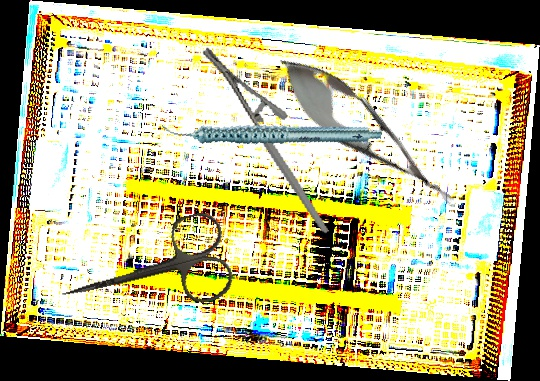Handpiece: (160, 77, 383, 187)
Iris Scissors: (50, 208, 238, 336)
Micro Scissor: (261, 40, 472, 225)
Needle Holder: (199, 28, 330, 253)
